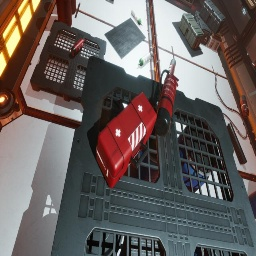0: (131, 8, 143, 26), (138, 52, 151, 66)
FireExtinguisher ]: (154, 69, 179, 136), (71, 38, 87, 56)
FirstAidBox ,: (96, 92, 157, 188)
NitrogenTank ,: (240, 95, 249, 118), (166, 59, 176, 77)
